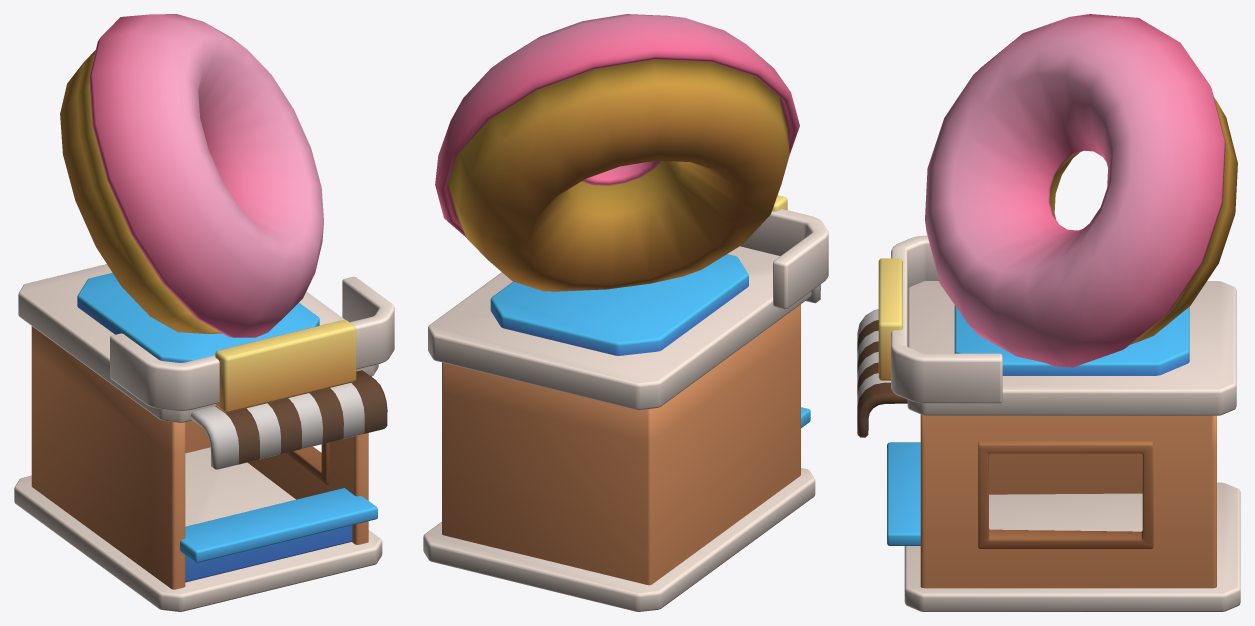
File: lpb_store_donut.fbx
3 views of the same model, side by side, from view 1: azimuth 30°, elevation 25°; view 2: azimuth 150°, elevation 25°; view 3: azimuth 270°, elevation 25° (orthographic). The views are drawn at different scales.
Parts seen in each view (by area): view 1: Store.003; view 2: Store.003; view 3: Store.003.
Part boxes in pixels (bbox=[...]): Store.003: bbox=[14, 14, 394, 611]; Store.003: bbox=[423, 14, 828, 611]; Store.003: bbox=[857, 14, 1240, 611].
Bounding box in the file's own units: 379 × 679 × 460.
